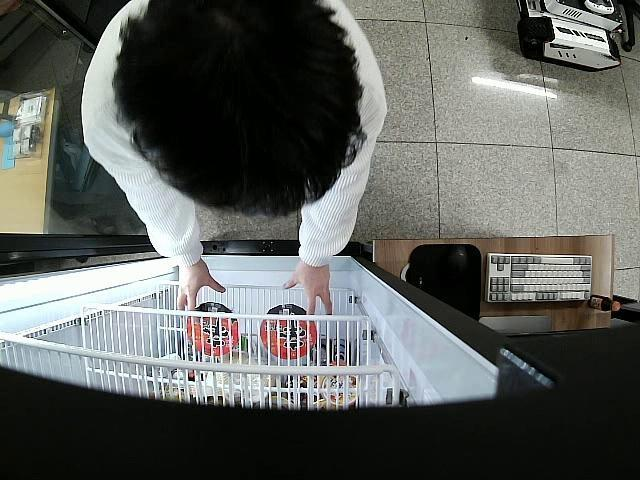01_ShinRamen_L: (260, 305, 318, 360), (186, 302, 240, 354)
